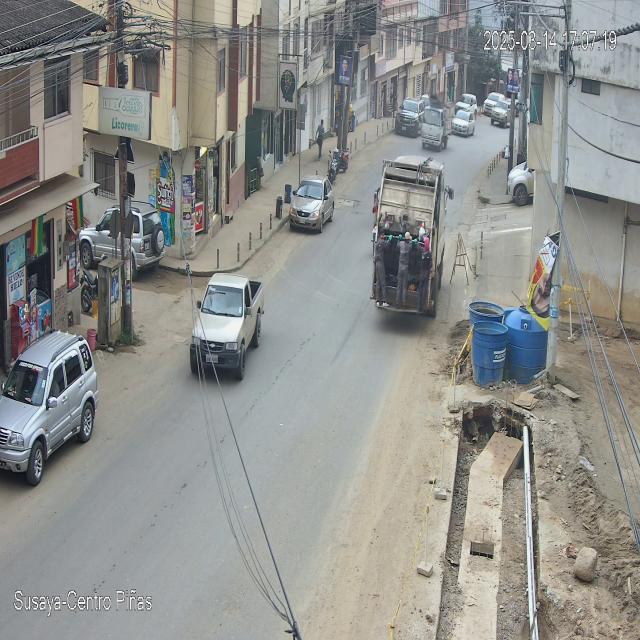CMT: (190, 274, 263, 384)
TRUCK: (370, 150, 456, 316)
